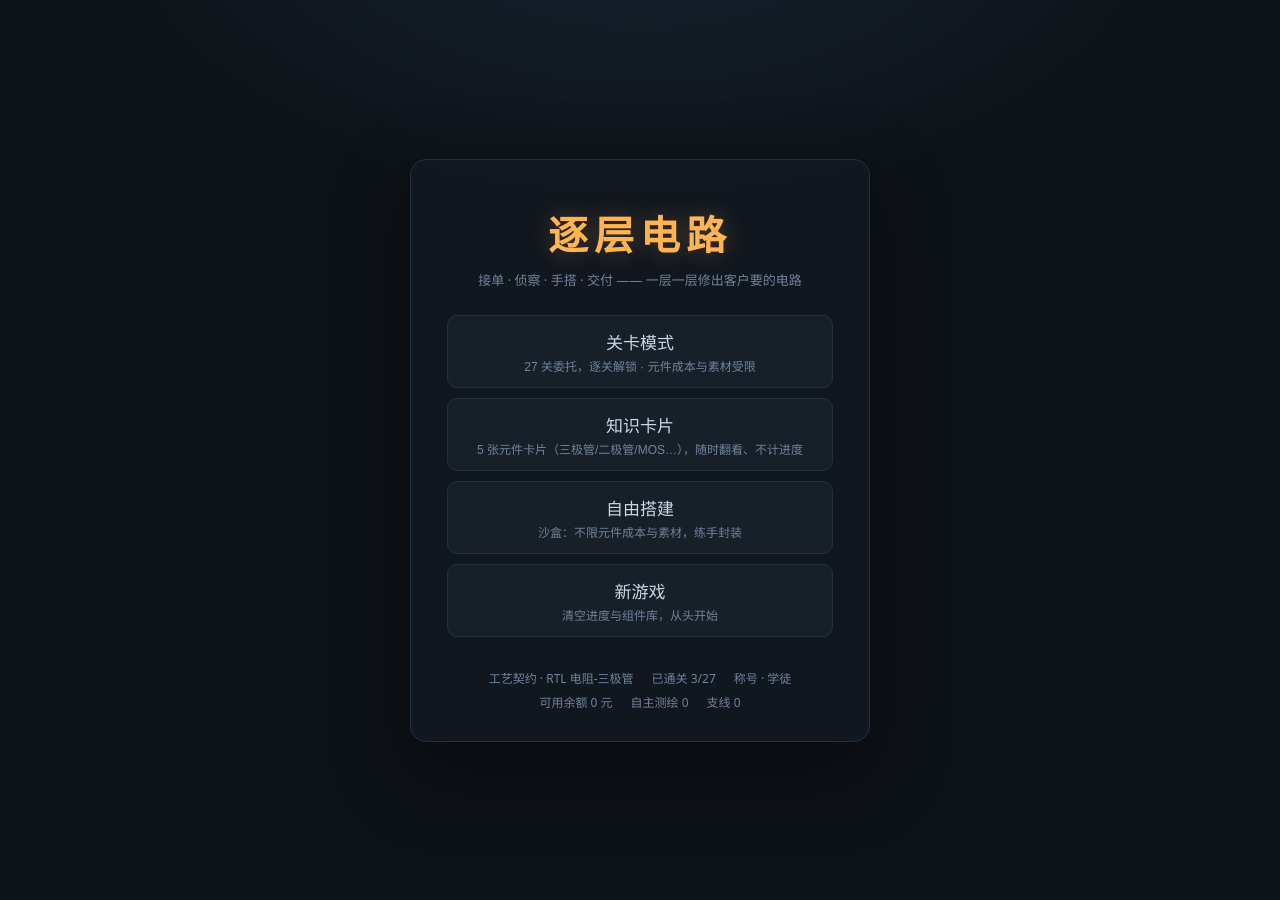
it: 逻辑关电平文字：只显示 1 / 0（用户第 ⑭ 轮） › ③ 反证：时序关（第 6 关「与非门」）的画布与图例一个字都没改
Click the button "关卡模式 27 关委托，逐关解锁 · 元件成本与素材受限".
click(640, 351)  # box left=447, top=314, right=833, bottom=388
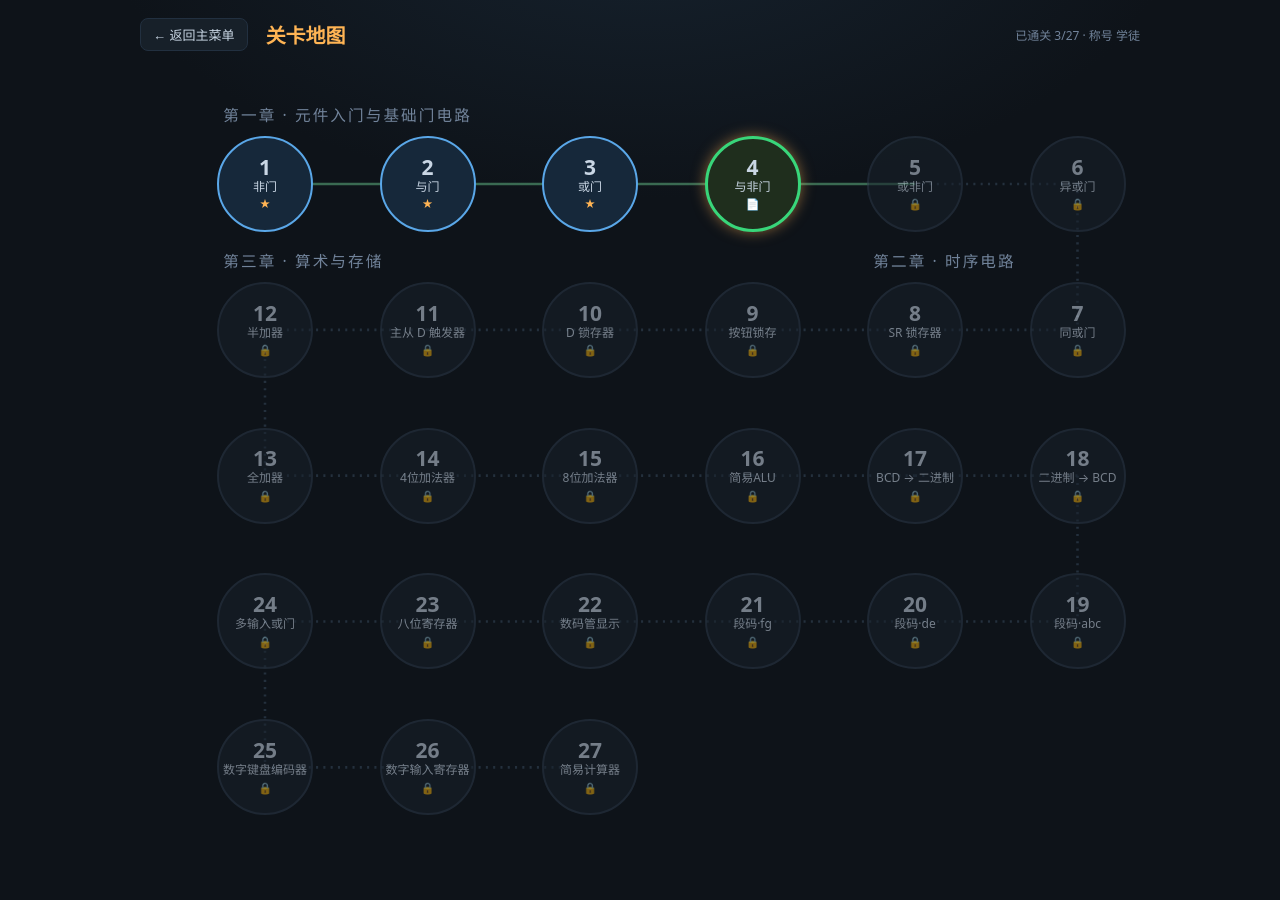
Click the text "与非门".
click(752, 187)  # box left=734, top=180, right=770, bottom=194
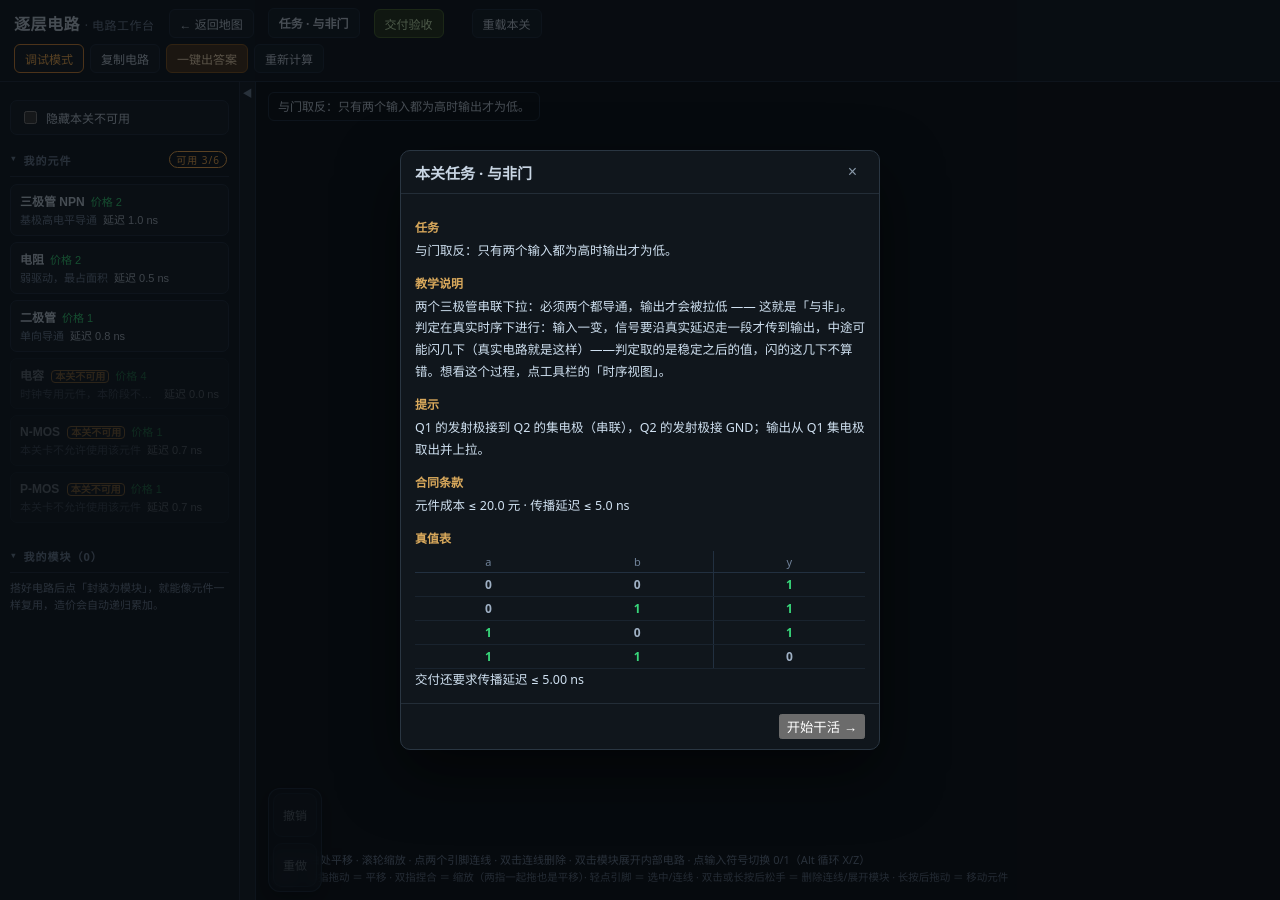
Click the button "开始干活 →".
click(822, 726)  # box left=779, top=714, right=865, bottom=738
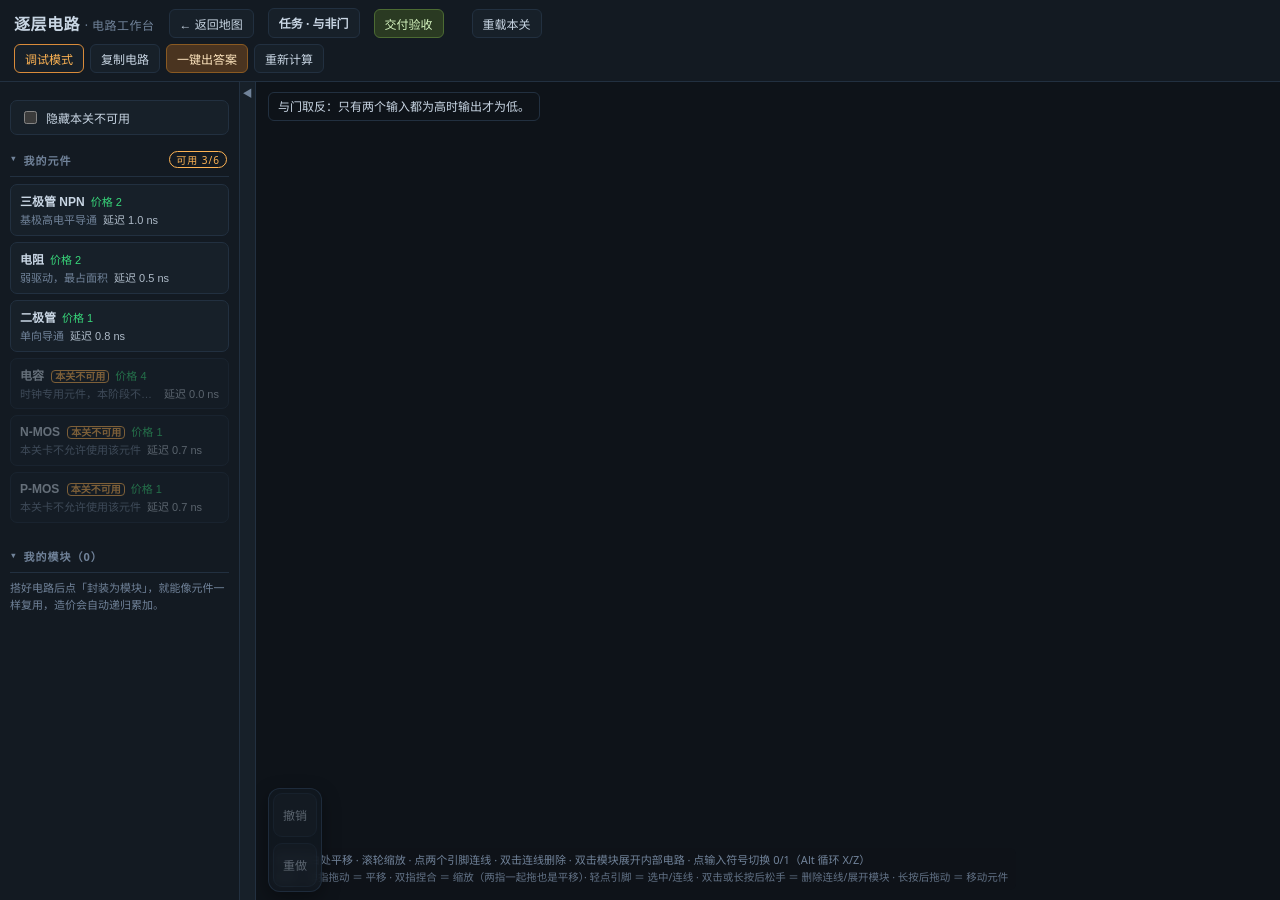
Click the button "一键出答案".
click(207, 58)  # box left=166, top=44, right=248, bottom=73
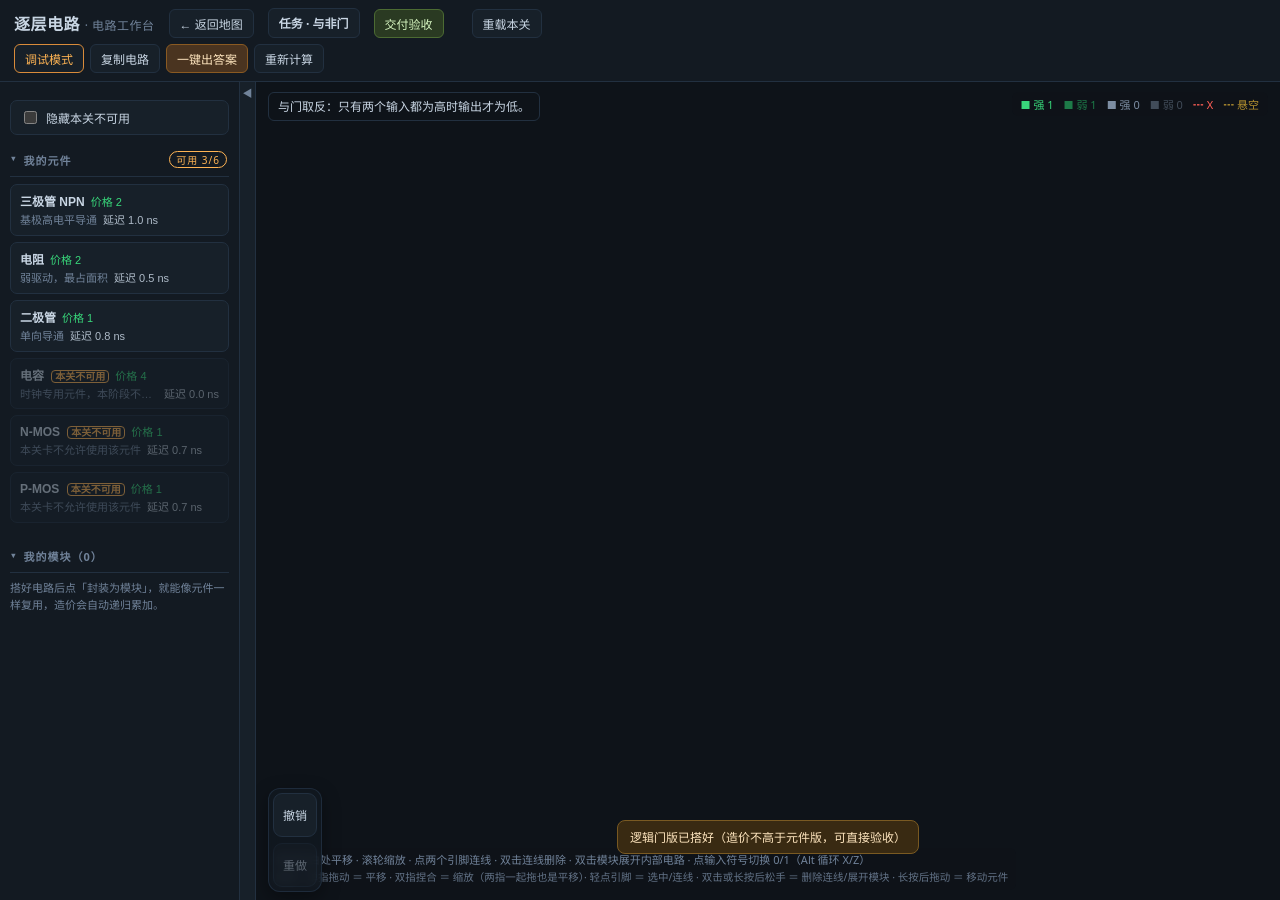
Result: the element with class "legend" is shown at left=1012, top=92, right=1268, bottom=116
